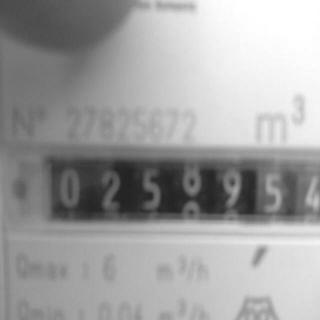1: (59, 164, 82, 210)
3: (98, 166, 123, 212)
5: (301, 170, 320, 214)
6: (262, 170, 287, 216), (141, 165, 164, 212)
9: (180, 160, 204, 200)
object: (220, 165, 242, 208)
